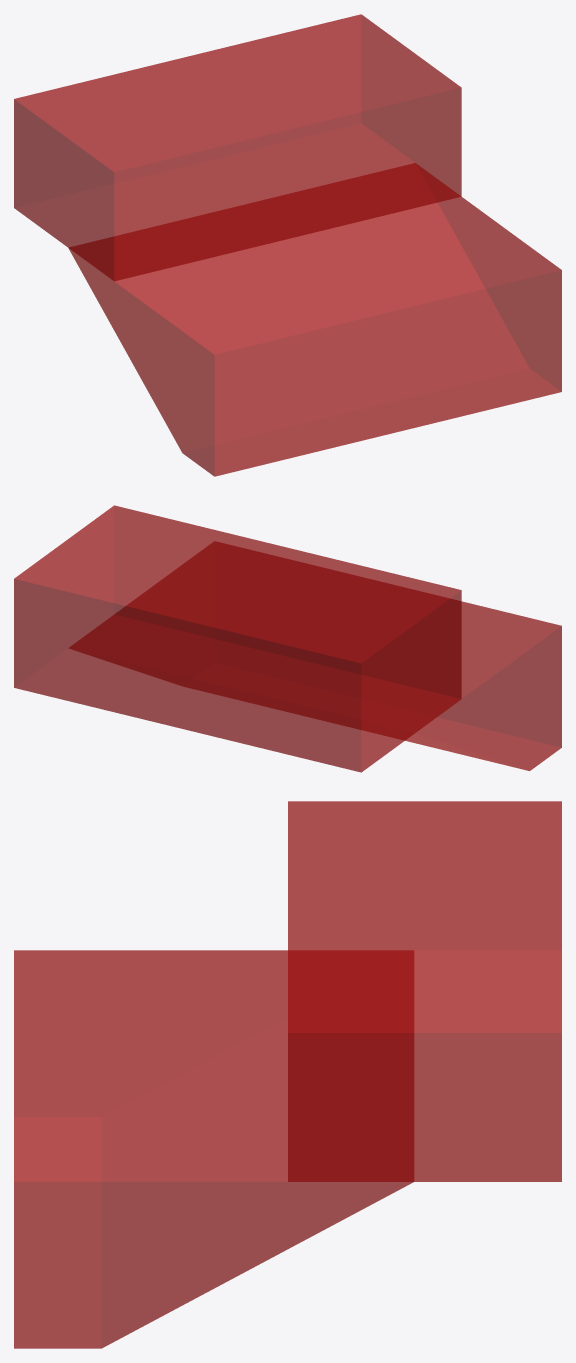
The model's file is SM_Bld_Step_02_Collision.fbx.
3 views of the same model, one above another, from view 1: azimuth 30°, elevation 25°; view 2: azimuth 150°, elevation 25°; view 3: azimuth 270°, elevation 25° (orthographic). The views are drawn at different scales.
Parts seen in each view (by area): view 1: SM_Bld_Step_02_Collision; view 2: SM_Bld_Step_02_Collision; view 3: SM_Bld_Step_02_Collision.
Boxes of the visible parts, x1=… form: SM_Bld_Step_02_Collision: x1=14, y1=14, x2=561, y2=476; SM_Bld_Step_02_Collision: x1=14, y1=505, x2=561, y2=772; SM_Bld_Step_02_Collision: x1=14, y1=801, x2=561, y2=1348.
Size of the model in its own units: 250 by 159 by 250.
